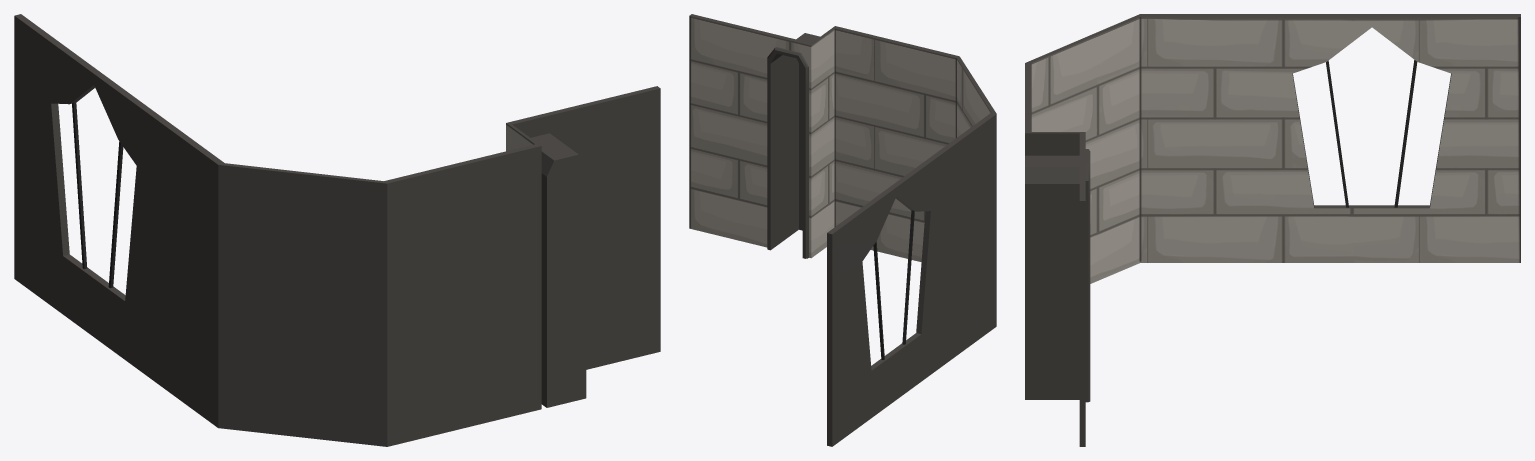
Rendered from SM_wall_LV4.fbx.
The picture shows the model from 3 angles, left to right: view 1: azimuth 30°, elevation 25°; view 2: azimuth 150°, elevation 25°; view 3: azimuth 270°, elevation 25°; orthographic projection. The views are drawn at different scales.
Visible parts, largest first — view 1: polySurface2; view 2: polySurface2; view 3: polySurface2.
Part boxes in pixels (x1,y1,x2,y2): polySurface2: (14,14,660,446); polySurface2: (689,14,996,446); polySurface2: (1025,14,1520,446).
Size of the model in its own units: 1628 by 998 by 1823.
